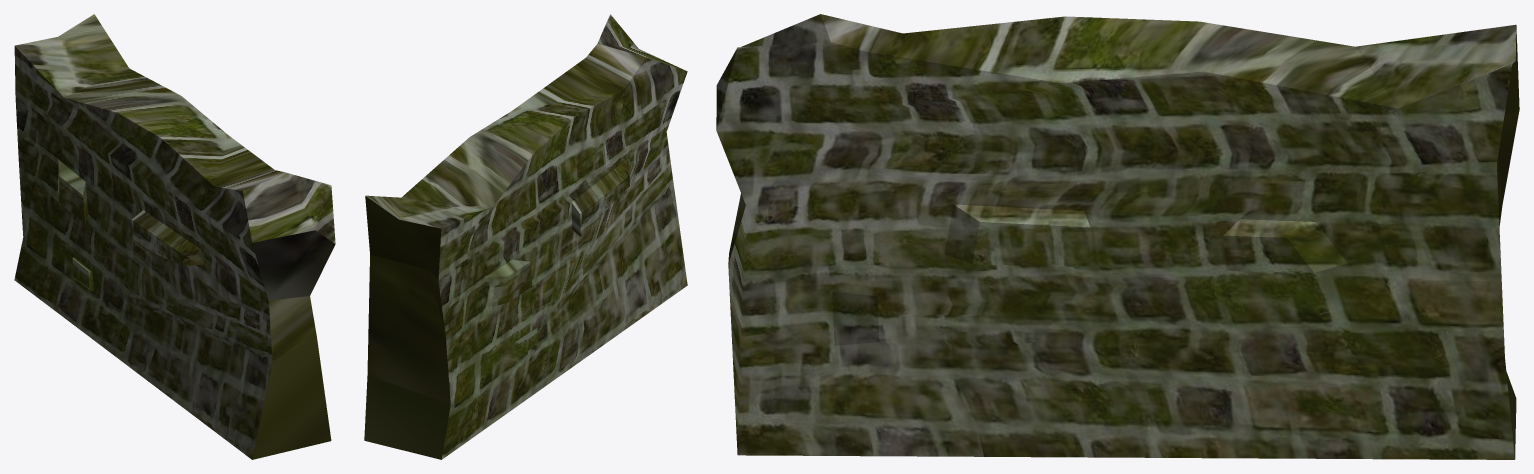
Rendered from SEINÄ.fbx.
The picture shows the model from 3 angles, left to right: view 1: azimuth 30°, elevation 25°; view 2: azimuth 150°, elevation 25°; view 3: azimuth 270°, elevation 25°; orthographic projection. The views are drawn at different scales.
Parts seen in each view (by area): view 1: Cube.001; view 2: Cube.001; view 3: Cube.001.
Part boxes in pixels (bbox=[...]): Cube.001: bbox=[14, 14, 335, 459]; Cube.001: bbox=[364, 14, 687, 459]; Cube.001: bbox=[716, 14, 1519, 459].
Size of the model in its own units: 116 by 283 by 506.
1 material, 1 textured.
